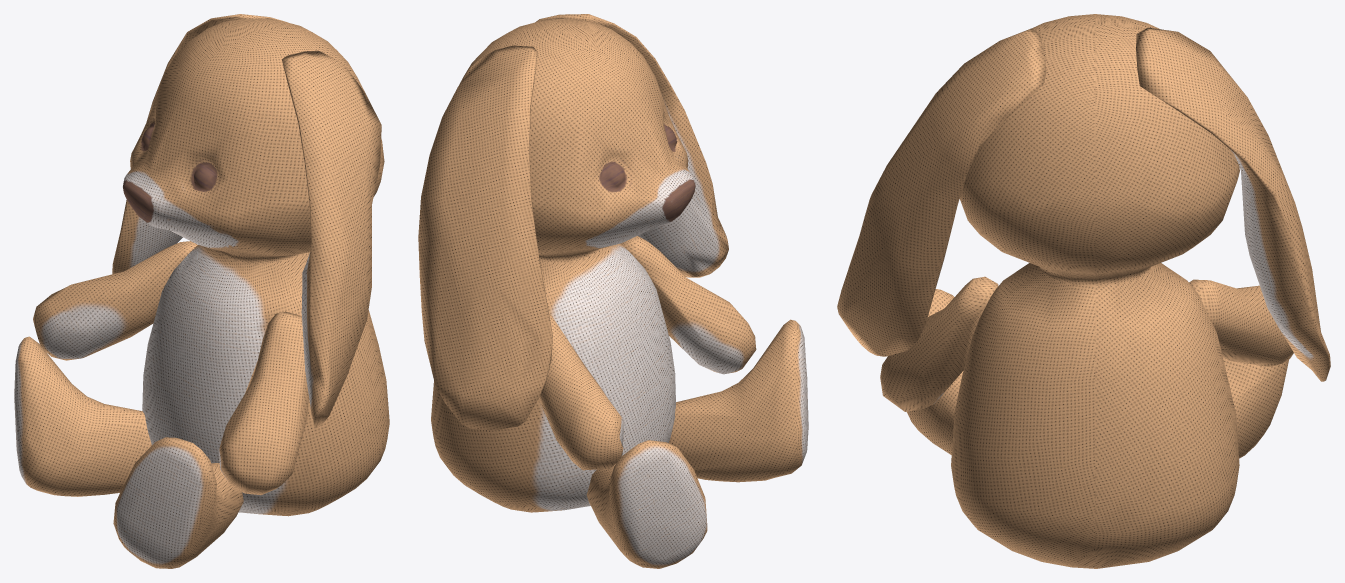
Rendered from SM_ToyRabbit_A1.fbx.
The picture shows the model from 3 angles, left to right: view 1: azimuth 30°, elevation 25°; view 2: azimuth 150°, elevation 25°; view 3: azimuth 270°, elevation 25°; orthographic projection. The views are drawn at different scales.
Parts seen in each view (by area): view 1: SM_ToyRabbit_A1; view 2: SM_ToyRabbit_A1; view 3: SM_ToyRabbit_A1.
Part boxes in pixels (x1,y1,x2,y2): SM_ToyRabbit_A1: (14,14,389,568); SM_ToyRabbit_A1: (418,14,808,568); SM_ToyRabbit_A1: (837,14,1330,568).
Size of the model in its own units: 28.69 by 36.39 by 42.4.
1 material, 1 textured.
